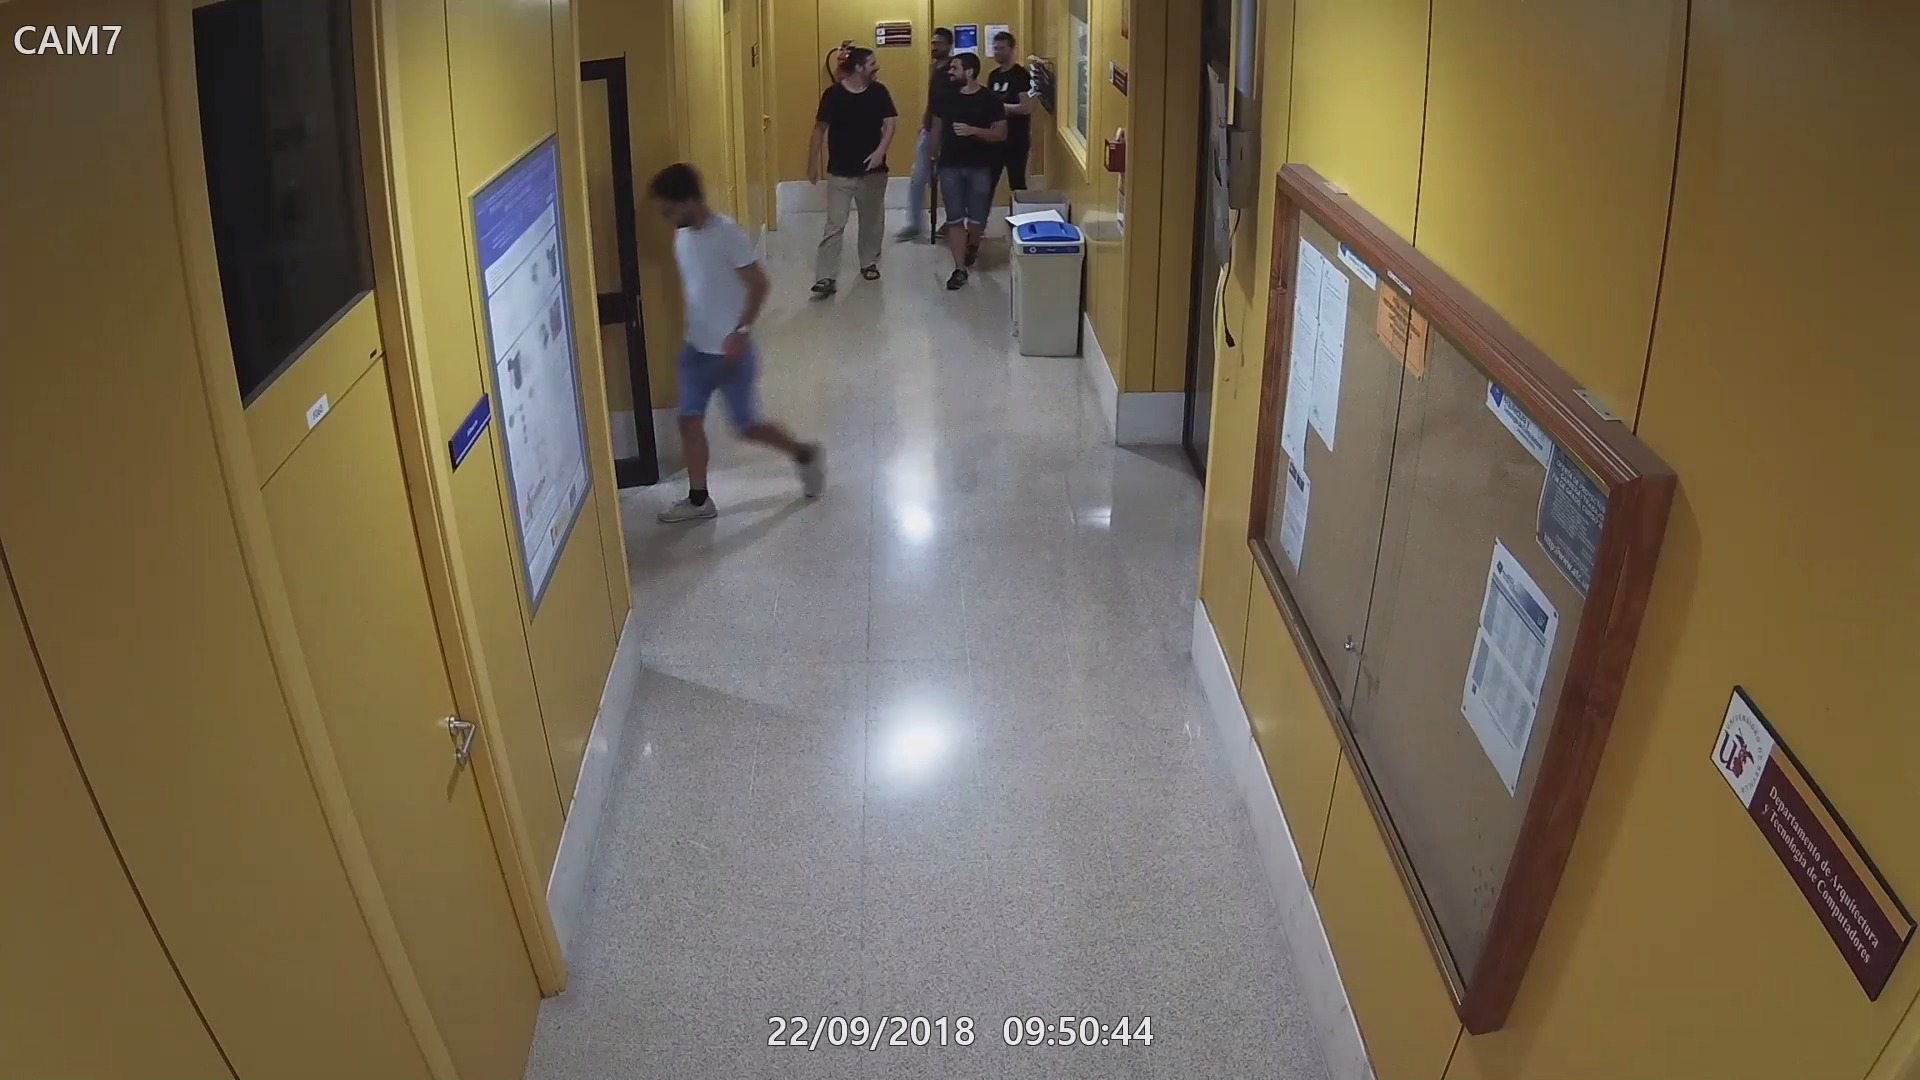Short_rifle: (924, 148, 938, 243)
